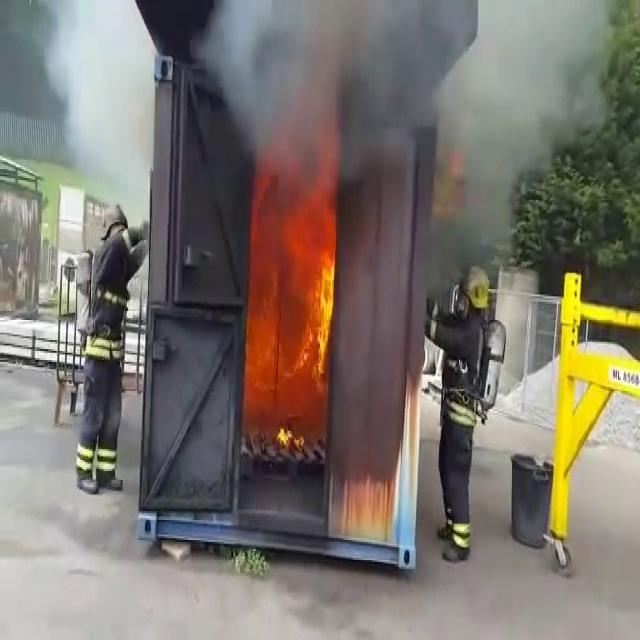Fire: (253, 164, 334, 452)
Smoke: (227, 0, 586, 159)
